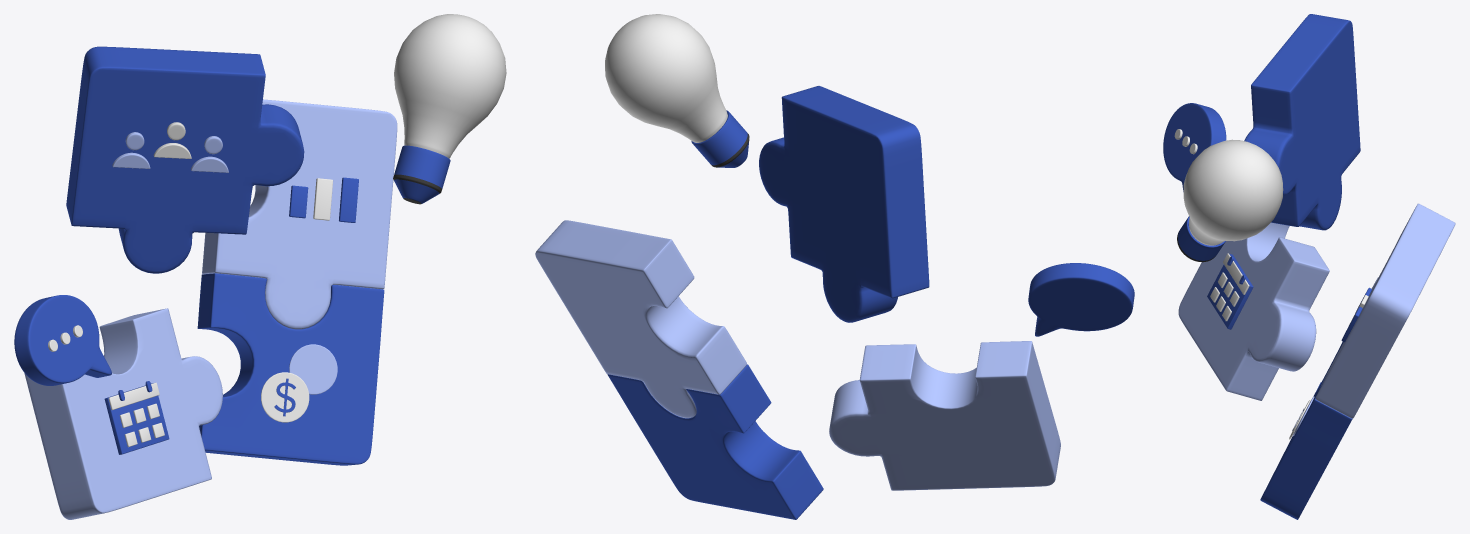
Rendered from project-managment.glb.
3 renders of one model, left to right at view 1: azimuth 30°, elevation 25°; view 2: azimuth 150°, elevation 25°; view 3: azimuth 270°, elevation 25°, orthographic. The views are drawn at different scales.
Parts seen in each view (by area): view 1: Pazzle-part-1, Pazzle-part-2, Pazzle-part-3, Pazzle-part-4, Circle.002, Message-txt, lamp-bottom, Calendar-Main, coin.001, coin, Plane.005, Graph-3 (+3 smaller); view 2: Pazzle-part-1, Pazzle-part-3, Pazzle-part-2, Pazzle-part-4, Circle.002, Message-txt, lamp-bottom; view 3: Pazzle-part-1, Pazzle-part-3, Pazzle-part-2, Circle.002, Pazzle-part-4, Message-txt, Calendar-Main, lamp-bottom, Plane.005, Plane.004.
Part boxes in pixels (x1,y1,x2,y2): Pazzle-part-1: [66, 46, 304, 273]; Pazzle-part-2: [202, 99, 397, 329]; Pazzle-part-3: [24, 308, 222, 519]; Pazzle-part-4: [197, 273, 384, 465]; Circle.002: [394, 14, 506, 158]; Message-txt: [14, 295, 111, 385]; lamp-bottom: [393, 145, 450, 204]; Calendar-Main: [104, 383, 169, 454]; coin.001: [289, 344, 337, 394]; coin: [261, 372, 309, 422]; Plane.005: [119, 403, 164, 447]; Graph-3: [339, 177, 358, 222]; Pazzle-part-1: [759, 86, 929, 322]; Pazzle-part-3: [829, 341, 1060, 490]; Pazzle-part-2: [535, 220, 746, 418]; Pazzle-part-4: [607, 364, 823, 519]; Circle.002: [605, 14, 727, 142]; Message-txt: [1028, 263, 1134, 336]; lamp-bottom: [691, 110, 749, 167]; Pazzle-part-1: [1244, 14, 1360, 230]; Pazzle-part-3: [1178, 222, 1329, 400]; Pazzle-part-2: [1315, 203, 1455, 418]; Circle.002: [1183, 139, 1283, 245]; Pazzle-part-4: [1260, 342, 1352, 519]; Message-txt: [1163, 103, 1226, 191]; Calendar-Main: [1207, 254, 1253, 329]; lamp-bottom: [1177, 216, 1225, 262]; Plane.005: [1210, 272, 1239, 321]; Plane.004: [1223, 253, 1249, 294].
Bounding box in the file's own units: 4.2 × 3.57 × 2.34.
